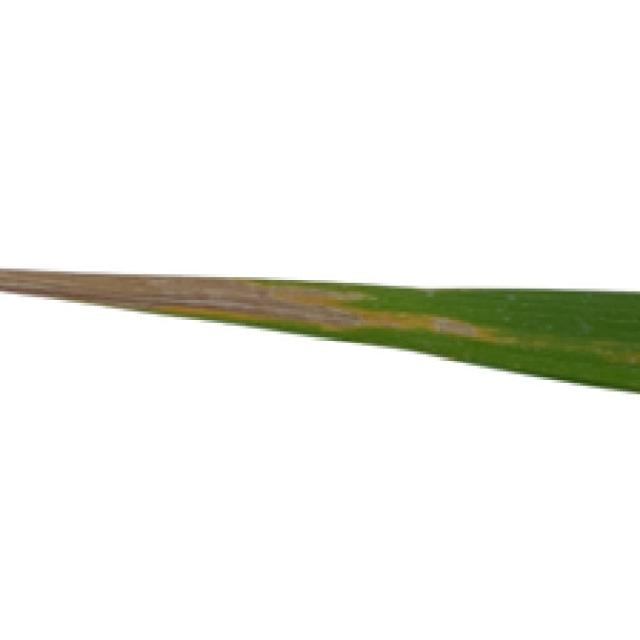Rice___Bacterial_Leaf_Blight: (0, 269, 637, 397)
